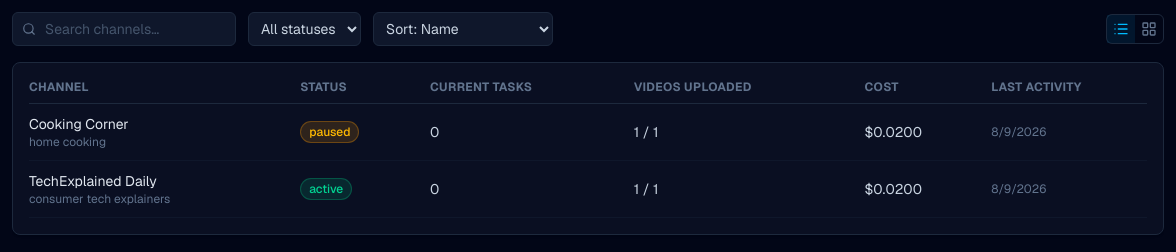
Scenario: ChannelsPage › filters the table by status via the status dropdown
This screenshot has width=1176, height=252.
Select "paused" in the dropdown named "Filter by status". click: (304, 29)
box: [248,12,361,46]
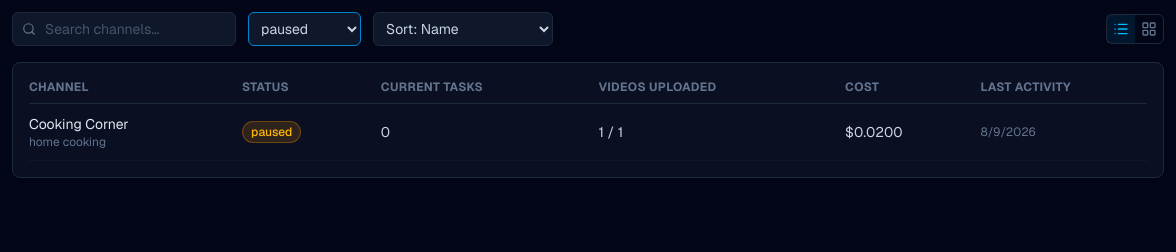
Expected: the link "Cooking Corner" is shown, [29,115,129,133]
Result: the link "TechExplained Daily" is gone
